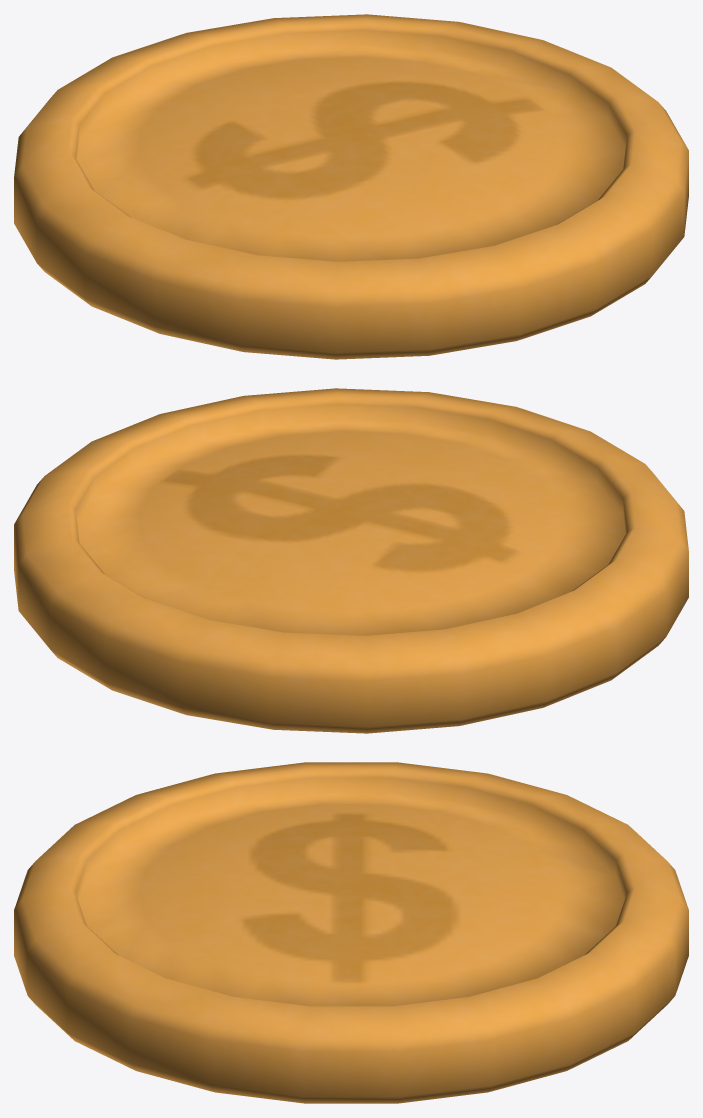
File: coin-yx5dAUPi.glb
The picture shows the model from 3 angles, top to bottom: view 1: azimuth 30°, elevation 25°; view 2: azimuth 150°, elevation 25°; view 3: azimuth 270°, elevation 25°; orthographic projection.
Parts seen in each view (by area): view 1: Cylinder.001_Cylinder.002; view 2: Cylinder.001_Cylinder.002; view 3: Cylinder.001_Cylinder.002.
Part boxes in pixels (x1,y1,x2,y2): Cylinder.001_Cylinder.002: (14, 14, 688, 359); Cylinder.001_Cylinder.002: (14, 388, 688, 733); Cylinder.001_Cylinder.002: (14, 762, 688, 1103).
Bounding box in the file's own units: 0.03 × 0.00487 × 0.0303.
1 material, 1 textured.
